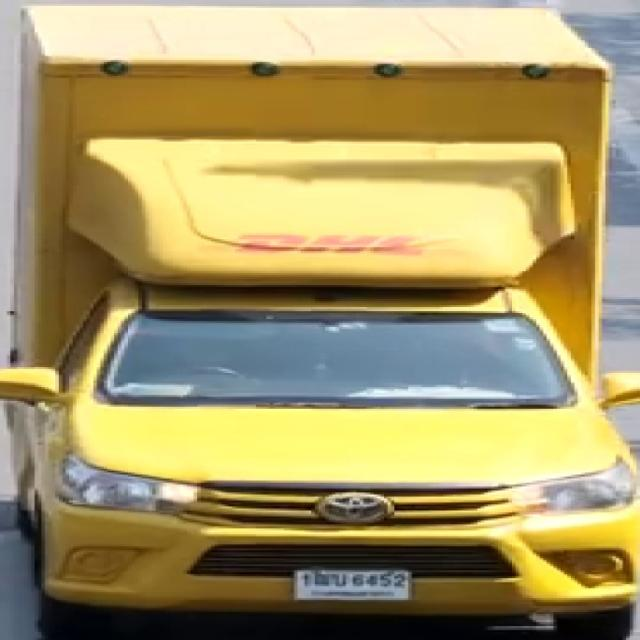plate: (293, 570, 411, 601)
